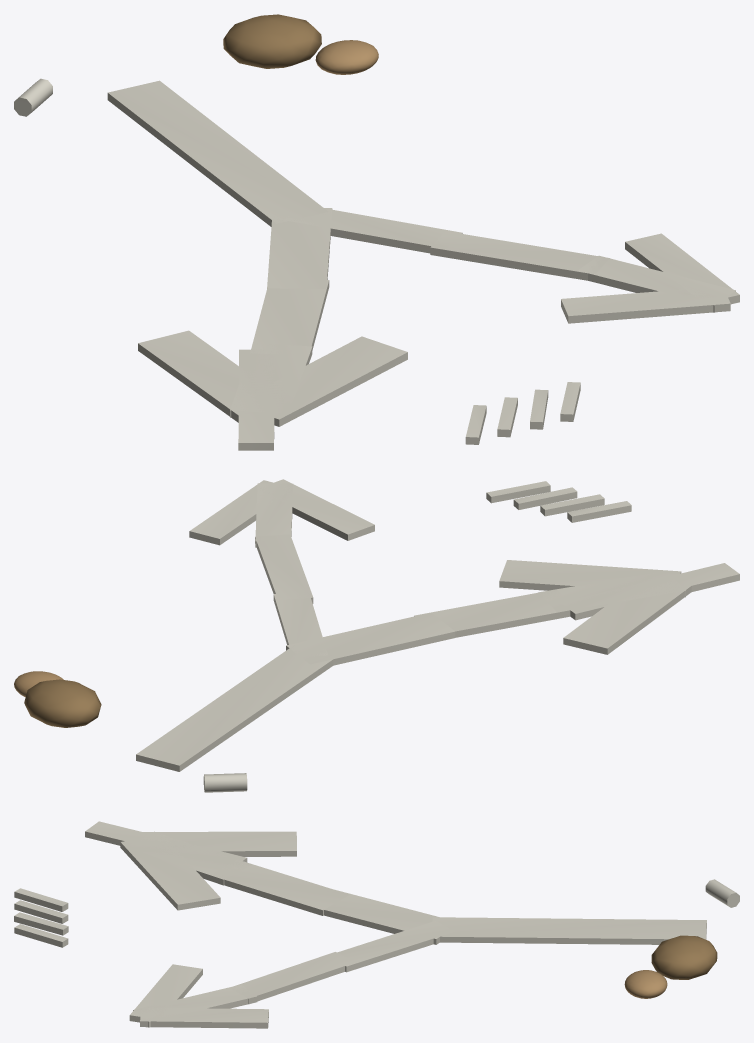
The model's file is chalk_turn_b.glb.
The picture shows the model from 3 angles, top to bottom: view 1: azimuth 30°, elevation 25°; view 2: azimuth 150°, elevation 25°; view 3: azimuth 270°, elevation 25°; orthographic projection. The views are drawn at different scales.
Visible parts, largest first — view 1: Surface; view 2: Surface; view 3: Surface.
Boxes of the visible parts, left/top/right/bottom form: Surface: left=14, top=14, right=739, bottom=450; Surface: left=14, top=479, right=739, bottom=792; Surface: left=14, top=821, right=739, bottom=1028.
Bounding box in the file's own units: 3.73 × 0.3596 × 5.67.
